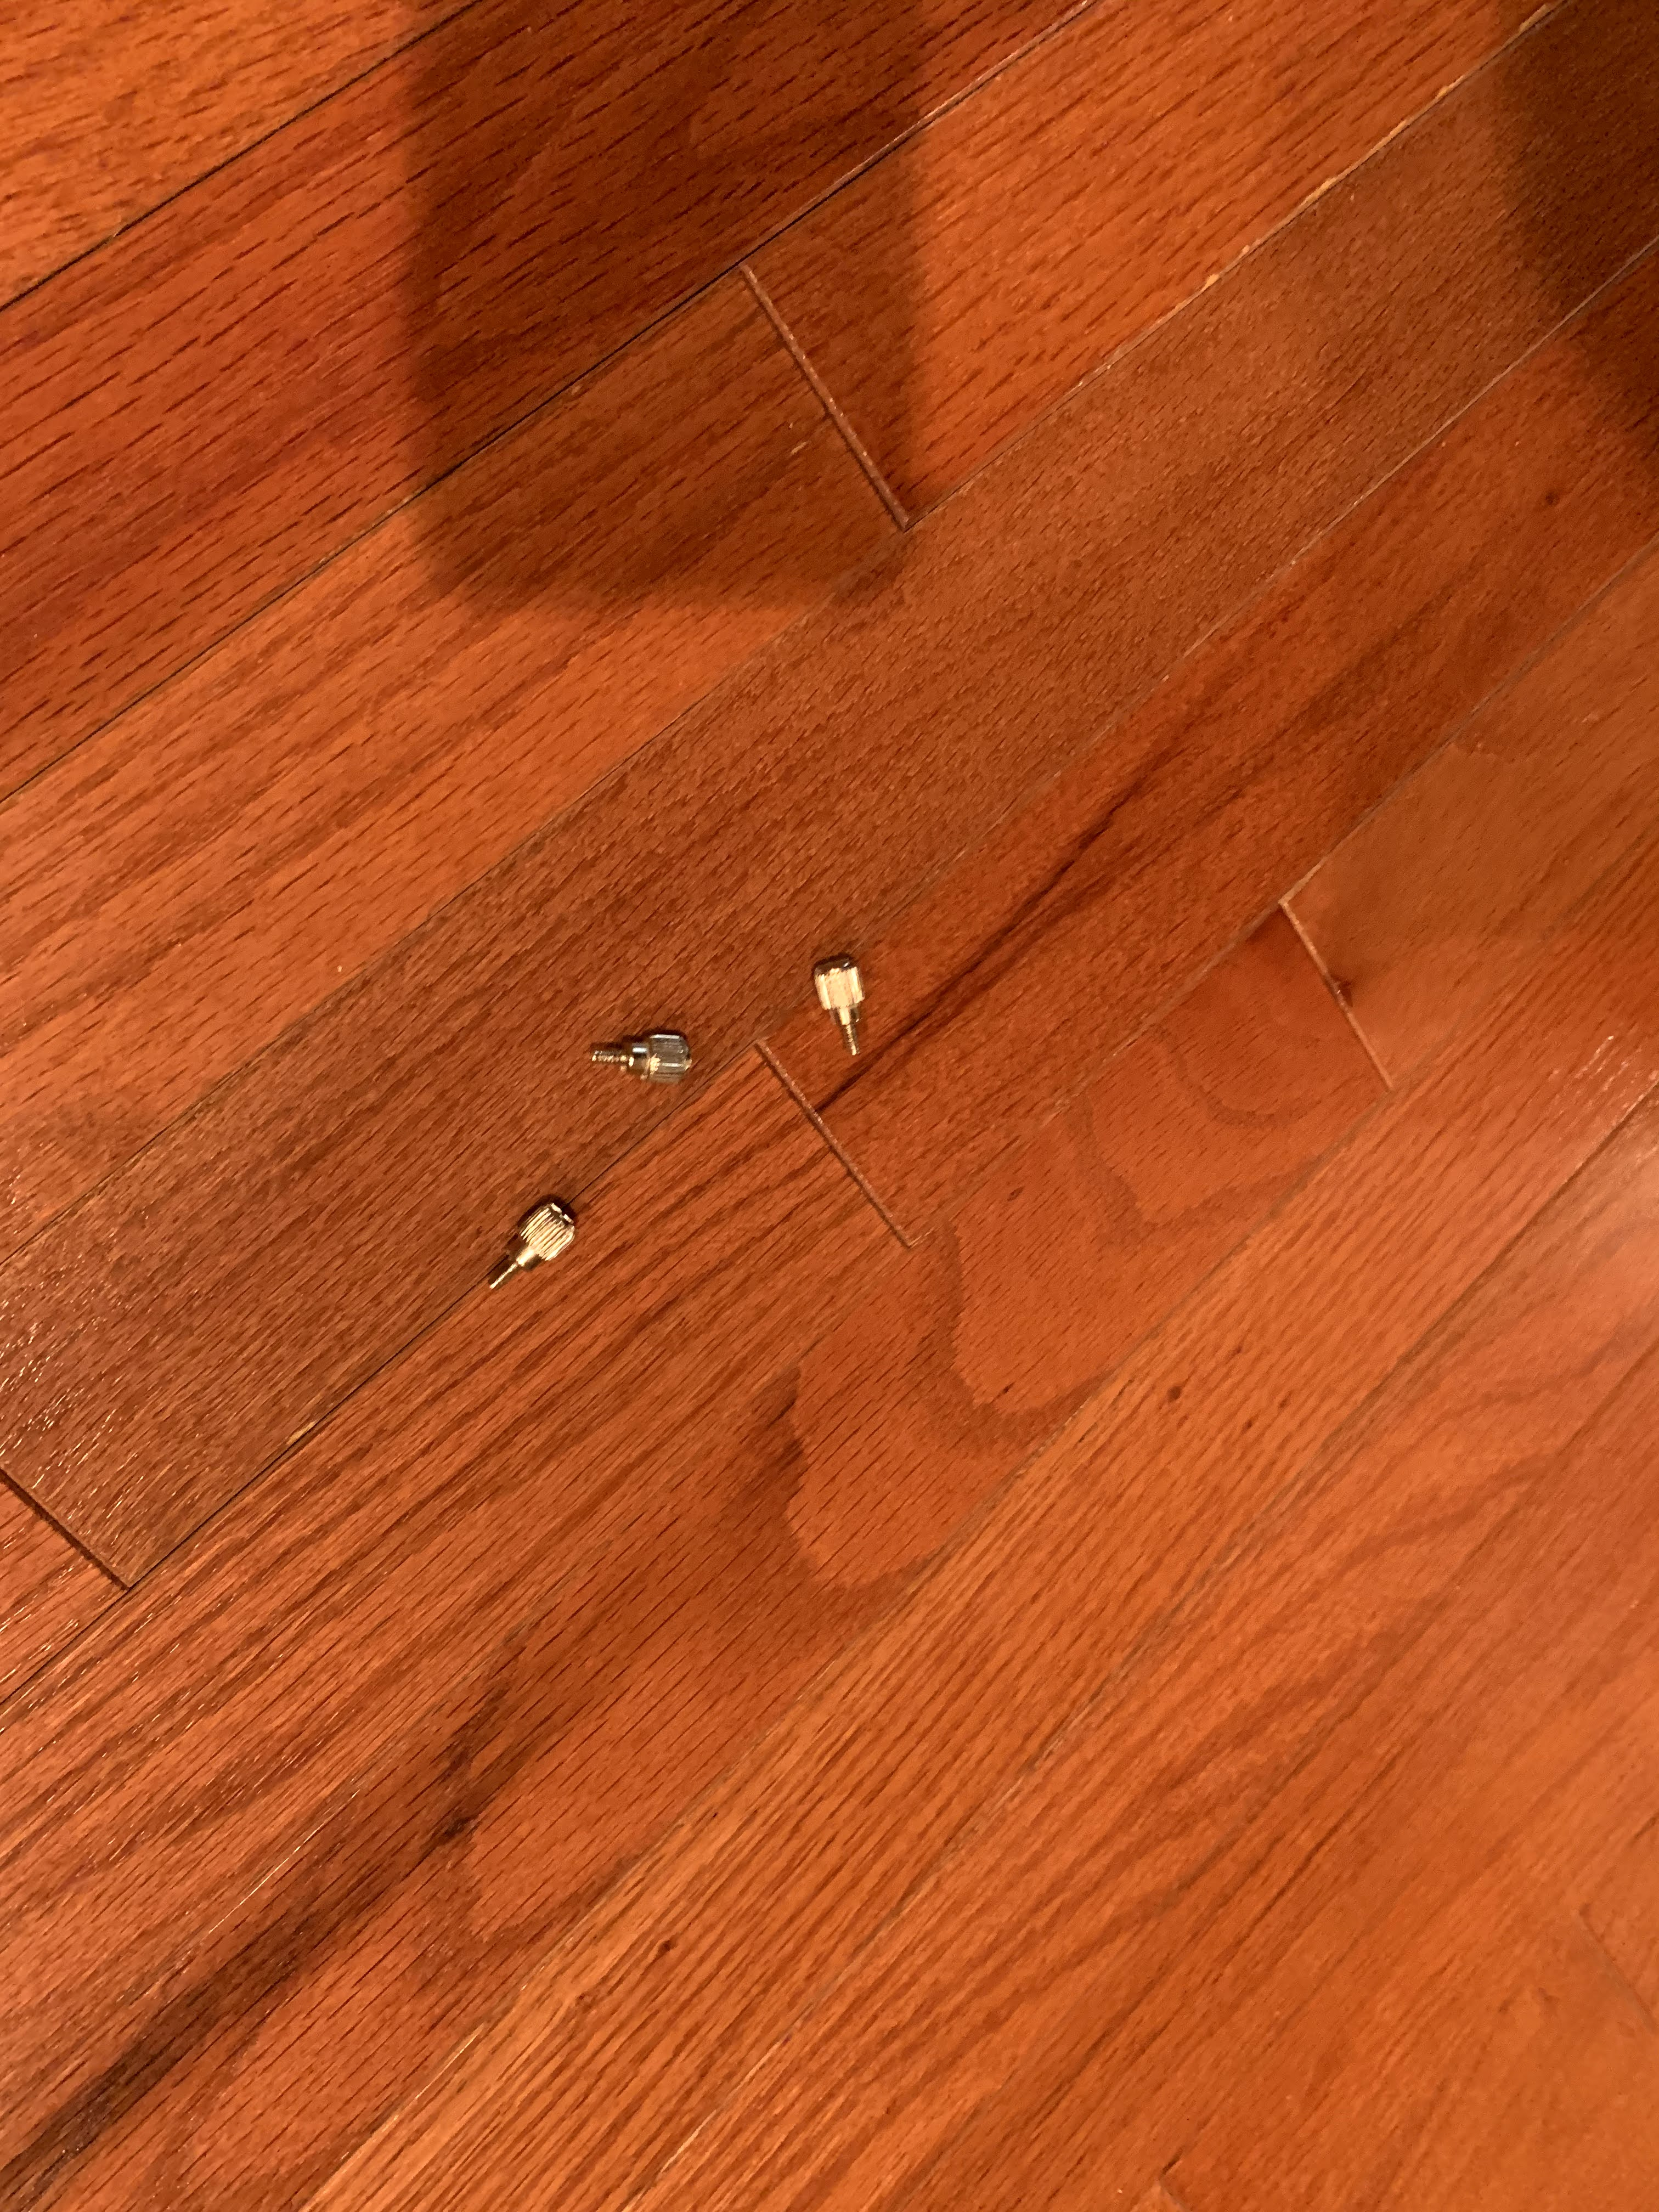Space-debris-small: (782, 911, 890, 1078), (568, 991, 706, 1108), (476, 1184, 592, 1301)
